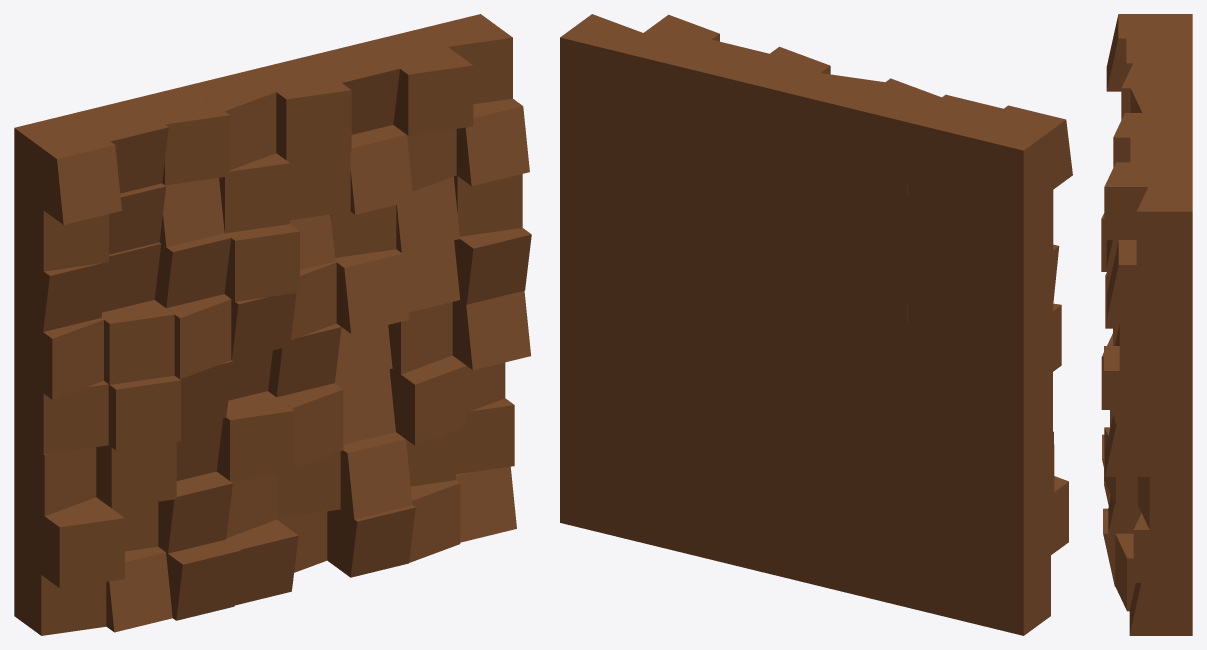
The model's file is wood-sound-absorbing-panel.glb.
3 views of the same model, side by side, from view 1: azimuth 30°, elevation 25°; view 2: azimuth 150°, elevation 25°; view 3: azimuth 270°, elevation 25° (orthographic). The views are drawn at different scales.
Visible parts, largest first — view 1: Grid; view 2: Grid; view 3: Grid.
Part boxes in pixels (x1,y1,x2,y2): Grid: [14, 14, 531, 635]; Grid: [560, 14, 1072, 635]; Grid: [1101, 14, 1192, 635].
Size of the model in its own units: 0.4 by 0.4 by 0.0781.
